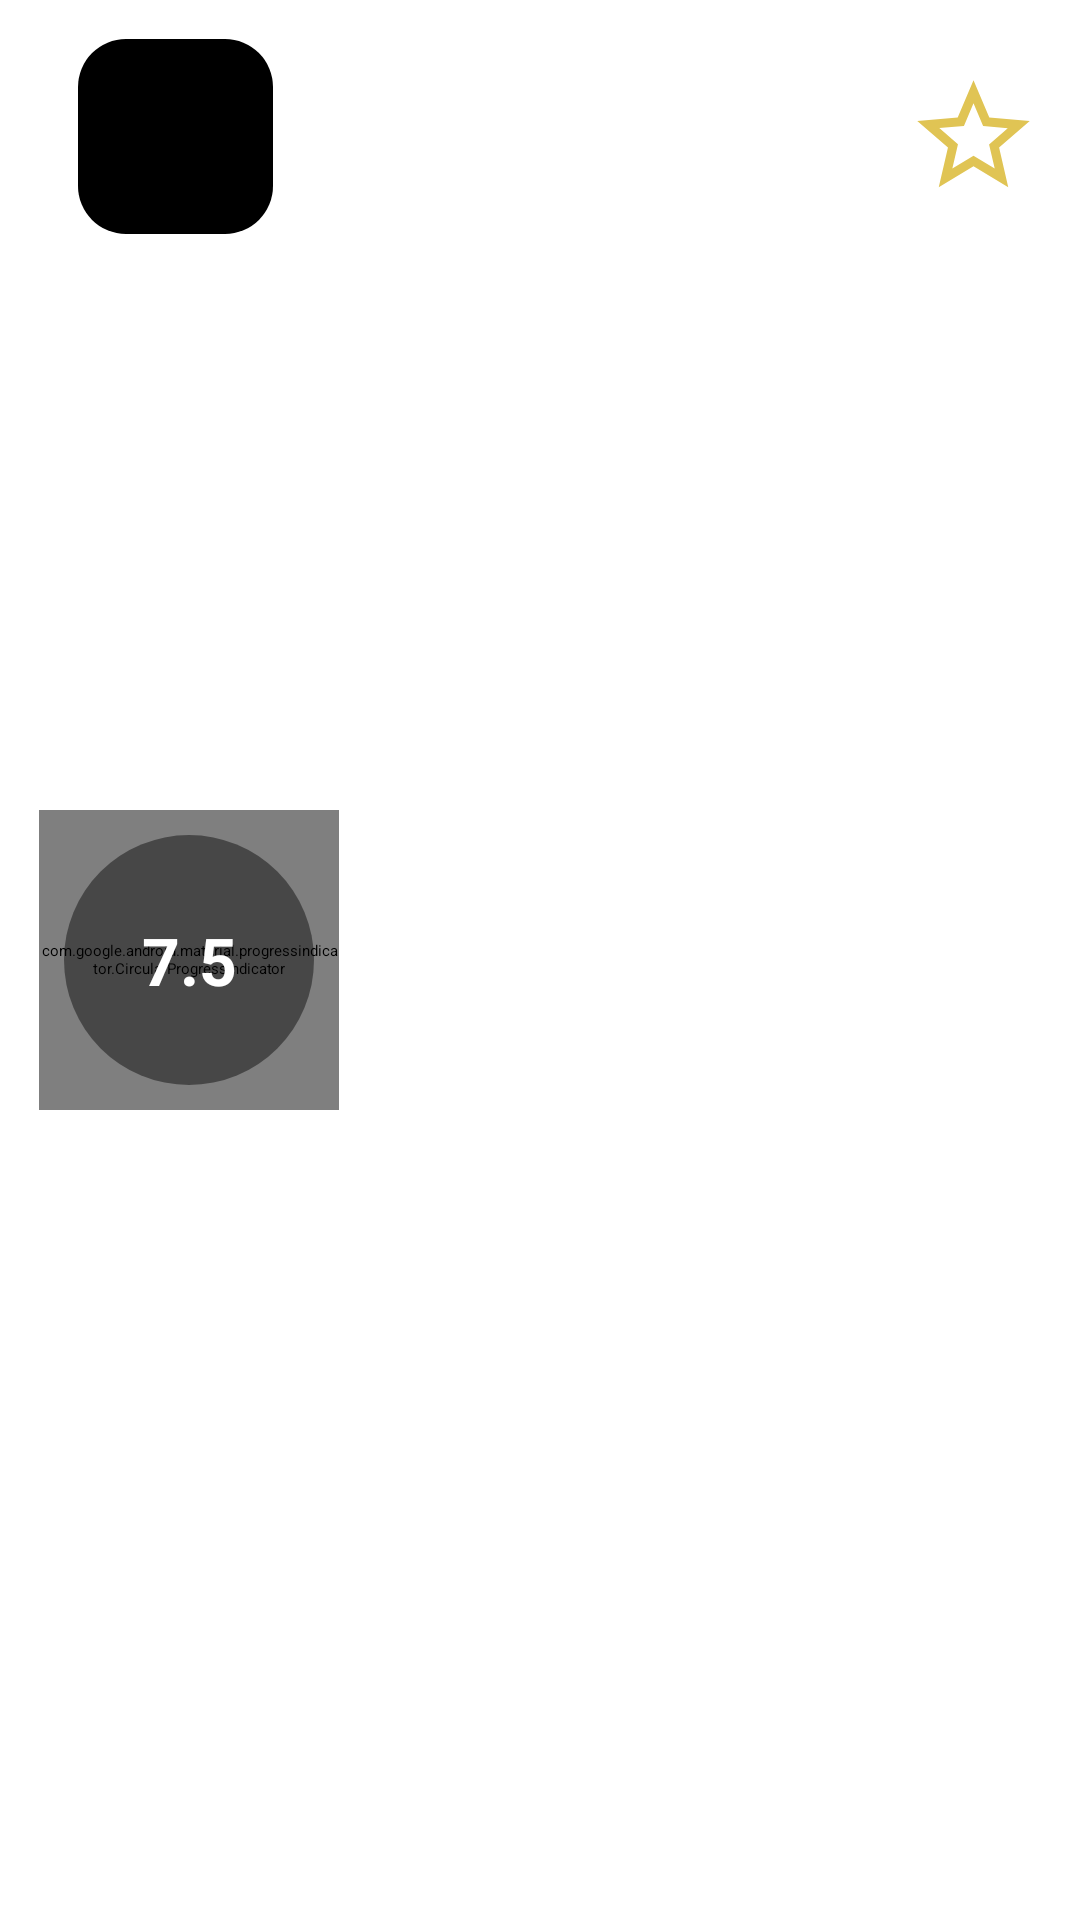

Where icons sit on this 1080px x 1920px app screen, as (x1, y1, x2, y2):
star border: (917, 80, 1030, 187)
